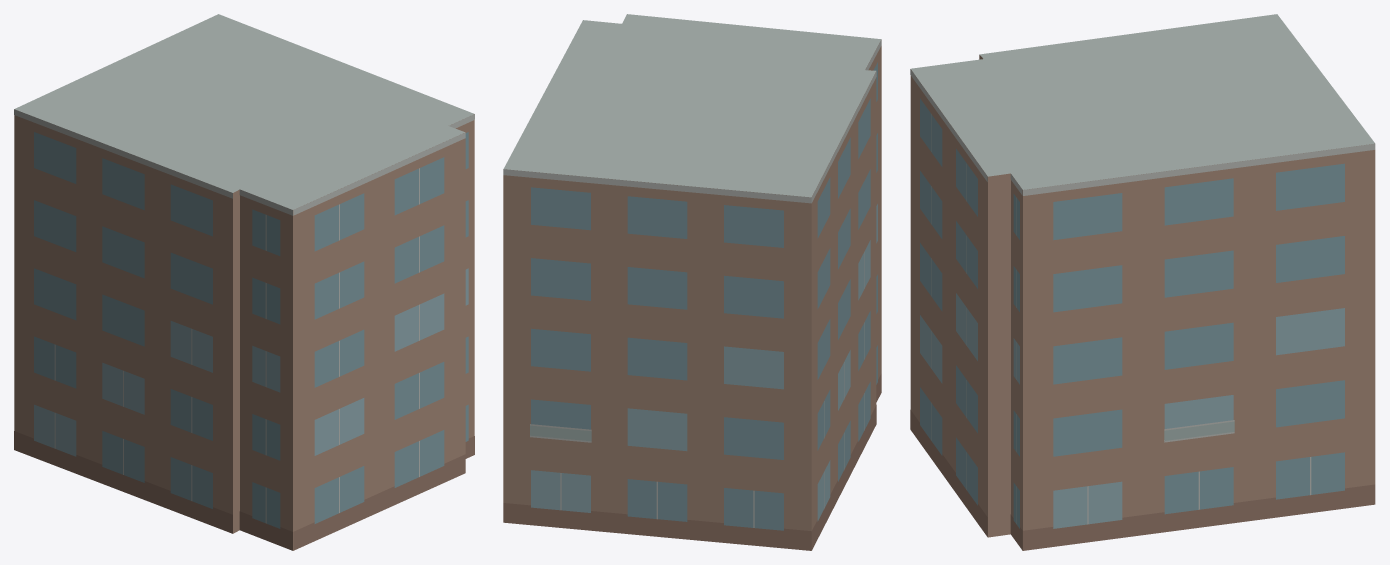
File: survey-upis-32939830.glb
The picture shows the model from 3 angles, left to right: view 1: azimuth 30°, elevation 25°; view 2: azimuth 150°, elevation 25°; view 3: azimuth 270°, elevation 25°; orthographic projection. The views are drawn at different scales.
Visible parts, largest first — view 1: survey-upis-32939830.tmp; view 2: survey-upis-32939830.tmp; view 3: survey-upis-32939830.tmp.
Boxes of the visible parts, <box> form: survey-upis-32939830.tmp: <box>14,14,474,550</box>; survey-upis-32939830.tmp: <box>503,14,881,550</box>; survey-upis-32939830.tmp: <box>910,14,1375,550</box>.
Size of the model in its own units: 14.96 by 14.3 by 16.71.
